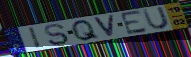E: (119, 9, 149, 36)
I: (27, 26, 42, 50)
Q: (70, 19, 102, 42)
S: (43, 23, 71, 46)
U: (141, 6, 172, 31)
V: (92, 14, 116, 37)
